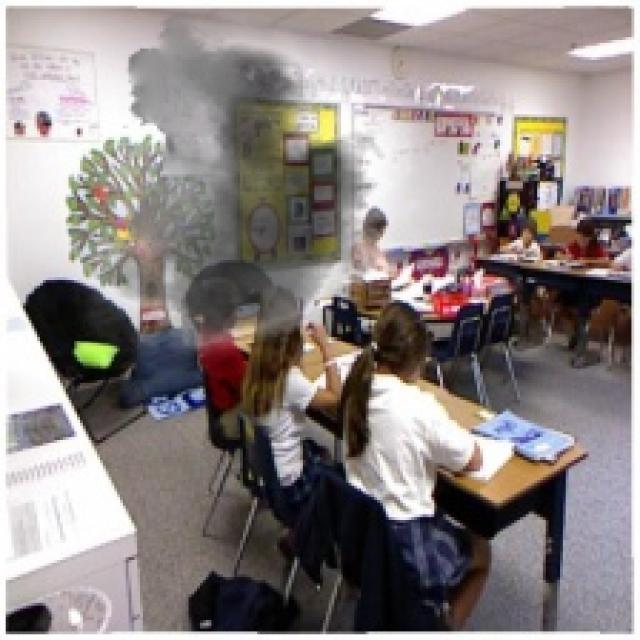Smoke: (14, 12, 437, 374)
